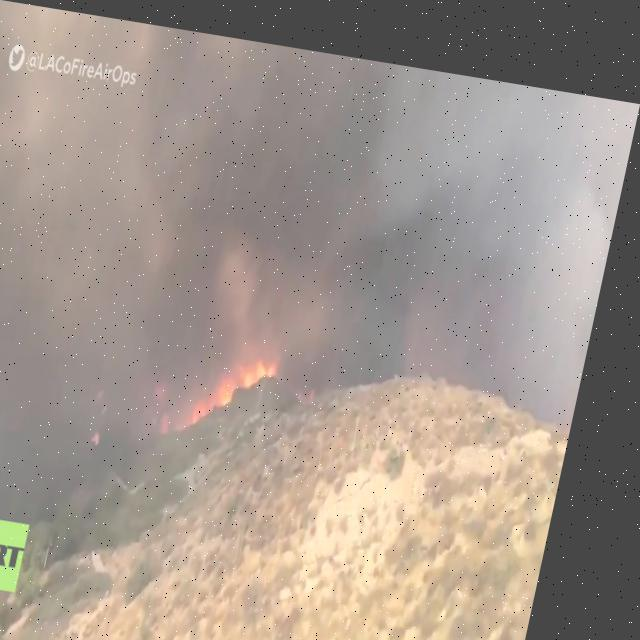Fire: (208, 336, 294, 422)
